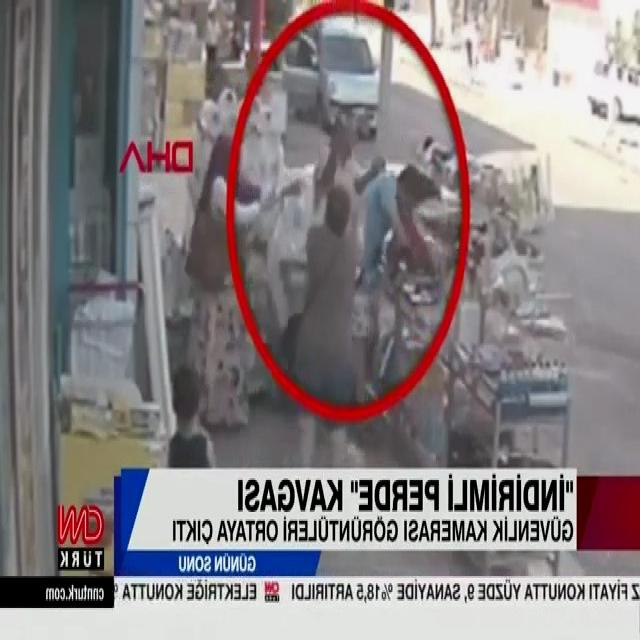fight: (303, 108, 383, 382)
